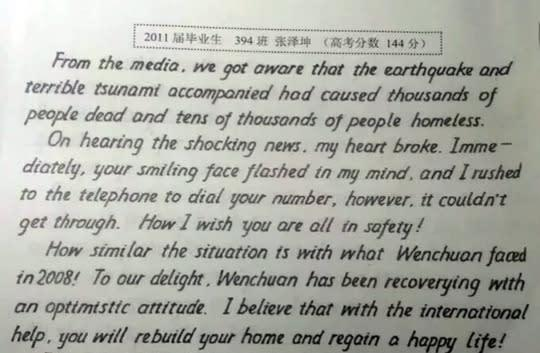text: (15, 266, 527, 300), (49, 49, 515, 86), (23, 76, 500, 110), (9, 323, 509, 353), (22, 103, 486, 135), (21, 156, 524, 185), (18, 182, 509, 211), (44, 238, 529, 267), (12, 295, 532, 322), (46, 129, 515, 157), (15, 210, 427, 241), (143, 30, 427, 51)
